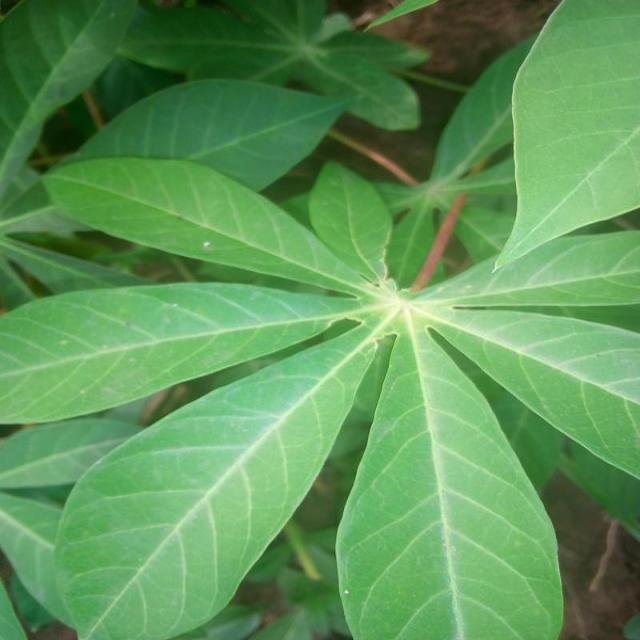cassava leaf: (1, 1, 638, 638), (51, 317, 378, 638), (334, 313, 564, 638), (492, 0, 638, 271)
